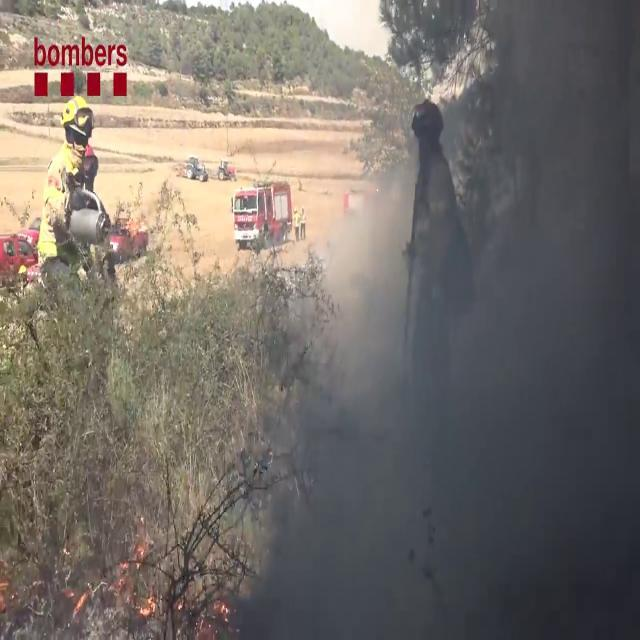Smoke: (290, 2, 640, 636)
